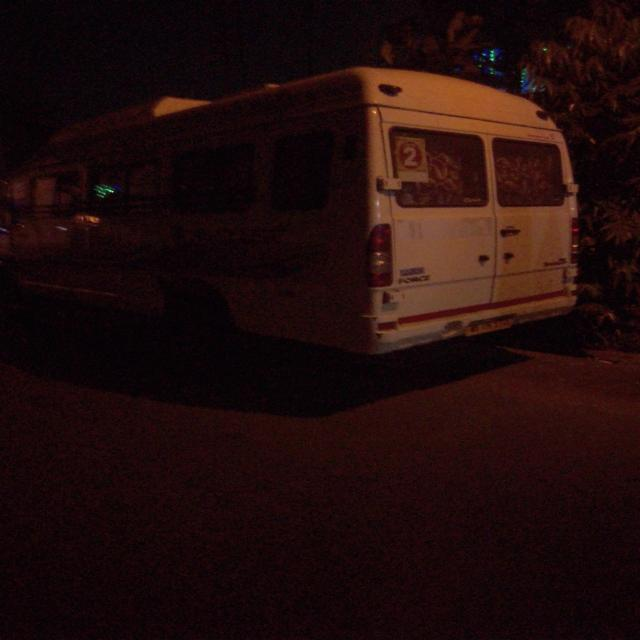Traveller: (3, 68, 578, 354)
